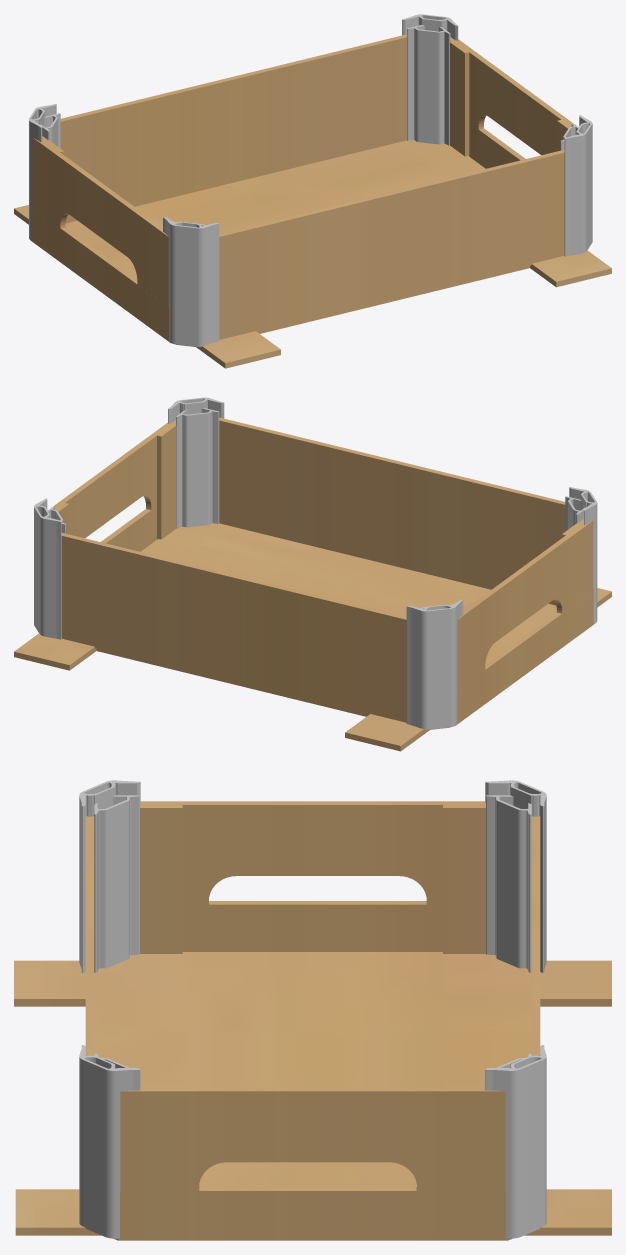
The model's file is theXeroulia6.dae.
The picture shows the model from 3 angles, top to bottom: view 1: azimuth 30°, elevation 25°; view 2: azimuth 150°, elevation 25°; view 3: azimuth 270°, elevation 25°; orthographic projection. The views are drawn at different scales.
Parts seen in each view (by area): view 1: Cu, Cu_001, vasi, pleuresmikresxeroulia_001, Plane_003, Plane_001, pleuresmikresxeroulia, pleuresmikresxeria, mpakalos, Plane_004, panodel, Plane_002 (+4 smaller); view 2: Cu_001, Cu, vasi, pleuresmikresxeroulia_001, Plane_002, Plane_004, pleuresmikresxeroulia, mpakalos, pleuresmikresxeria, Plane_001, katodek, Plane_003 (+4 smaller); view 3: vasi, pleuresmikresxeroulia, pleuresmikresxeroulia_001, pleuresmikresxeria_001, mpakalos, pleuresmikresxeria, Plane_002, Plane_003, Plane_001, Plane_004, panoar, katoar (+6 smaller).
Boxes of the visible parts, x1=… form: Cu: x1=219, y1=149, x2=564, y2=339; Cu_001: x1=60, y1=34, x2=406, y2=223; vasi: x1=100, y1=142, x2=468, y2=278; pleuresmikresxeroulia_001: x1=30, y1=138, x2=170, y2=342; Plane_003: x1=163, y1=216, x2=219, y2=346; Plane_001: x1=402, y1=14, x2=458, y2=145; pleuresmikresxeroulia: x1=450, y1=37, x2=572, y2=168; pleuresmikresxeria: x1=32, y1=208, x2=168, y2=340; mpakalos: x1=14, y1=140, x2=611, y2=368; Plane_004: x1=560, y1=115, x2=592, y2=256; panodel: x1=450, y1=39, x2=469, y2=156; Plane_002: x1=29, y1=104, x2=60, y2=240; Cu_001: x1=61, y1=533, x2=406, y2=722; Cu: x1=219, y1=417, x2=565, y2=605; vasi: x1=154, y1=528, x2=555, y2=664; pleuresmikresxeroulia_001: x1=455, y1=521, x2=595, y2=725; Plane_002: x1=406, y1=599, x2=463, y2=729; Plane_004: x1=168, y1=397, x2=224, y2=528; pleuresmikresxeroulia: x1=53, y1=420, x2=175, y2=551; mpakalos: x1=14, y1=523, x2=611, y2=751; pleuresmikresxeria: x1=457, y1=591, x2=593, y2=722; Plane_001: x1=34, y1=498, x2=65, y2=639; katodek: x1=157, y1=422, x2=176, y2=539; Plane_003: x1=565, y1=487, x2=597, y2=623; vasi: x1=108, y1=960, x2=517, y2=1187; pleuresmikresxeroulia: x1=114, y1=1087, x2=511, y2=1239; pleuresmikresxeroulia_001: x1=140, y1=801, x2=485, y2=951; pleuresmikresxeria_001: x1=120, y1=1187, x2=505, y2=1237; mpakalos: x1=14, y1=960, x2=611, y2=1235; pleuresmikresxeria: x1=182, y1=901, x2=442, y2=950; Plane_002: x1=485, y1=780, x2=546, y2=972; Plane_003: x1=79, y1=780, x2=140, y2=972; Plane_001: x1=485, y1=1045, x2=546, y2=1238; Plane_004: x1=79, y1=1045, x2=140, y2=1238; panoar: x1=443, y1=805, x2=485, y2=953; katoar: x1=140, y1=805, x2=182, y2=953.
Size of the model in its own units: 4.02 by 3.5 by 1.13.
2 materials, 1 textured.
